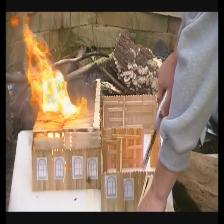fire: (20, 24, 78, 121)
